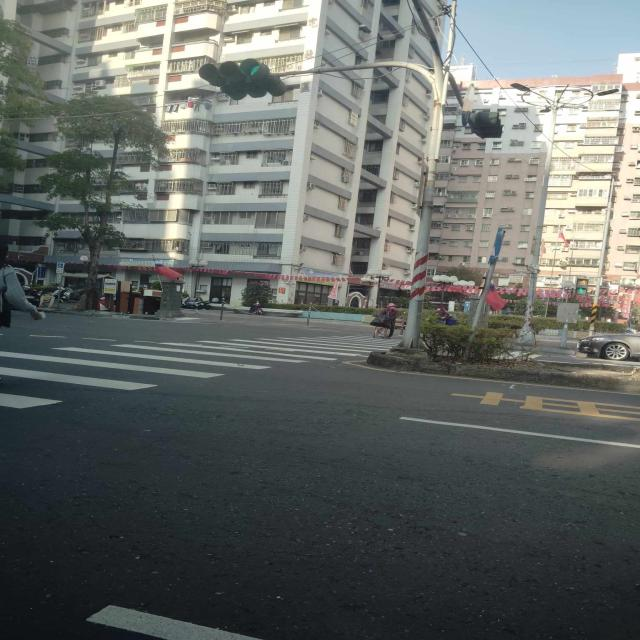zebra_crossing: (227, 158, 640, 468), (198, 163, 595, 473), (10, 152, 45, 472), (0, 197, 9, 611)
